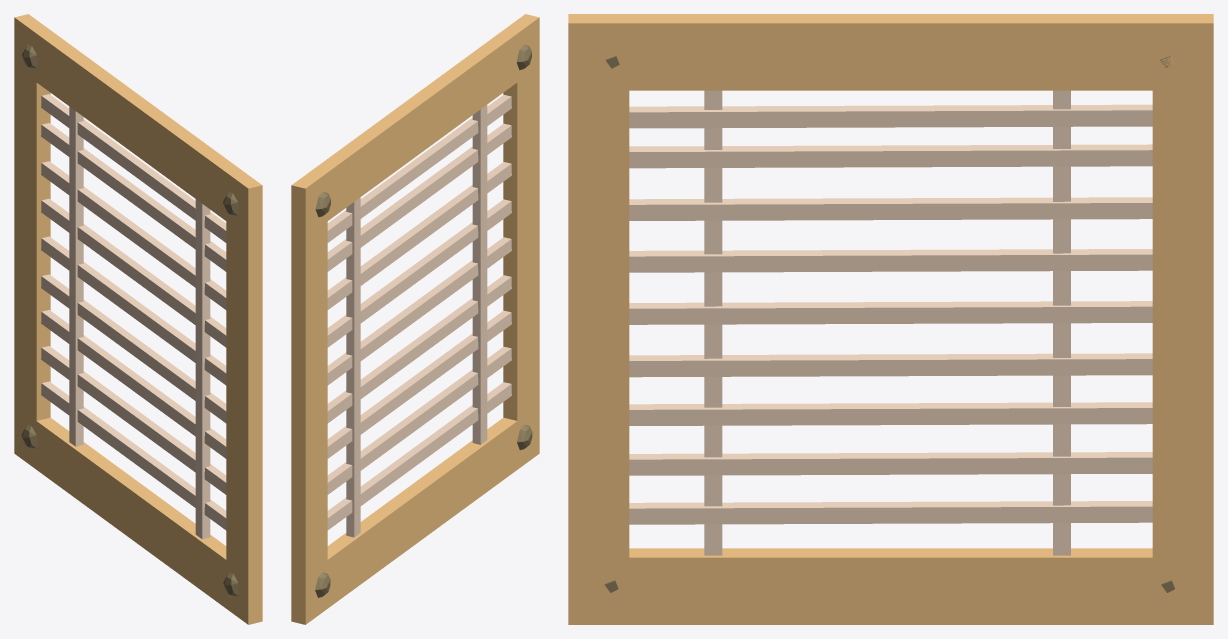
The model's file is vent cover.fbx.
3 renders of one model, left to right at view 1: azimuth 30°, elevation 25°; view 2: azimuth 150°, elevation 25°; view 3: azimuth 270°, elevation 25°, orthographic. The views are drawn at different scales.
Visible parts, largest first — view 1: Cube, Cube.004; view 2: Cube, Cube.004; view 3: Cube, Cube.004.
Boxes of the visible parts, left/top/right/bottom form: Cube: left=14, top=14, right=262, bottom=624; Cube.004: left=41, top=94, right=226, bottom=539; Cube: left=291, top=14, right=539, bottom=624; Cube.004: left=327, top=94, right=511, bottom=537; Cube: left=568, top=14, right=1213, bottom=624; Cube.004: left=629, top=90, right=1152, bottom=555.
Bounding box in the file's own units: 25.59 × 489 × 476.
